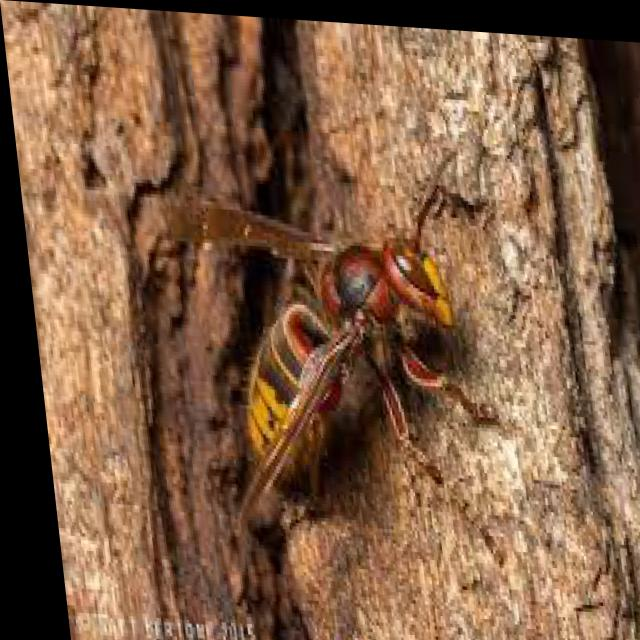Vespa Crabro: (115, 132, 511, 567)
